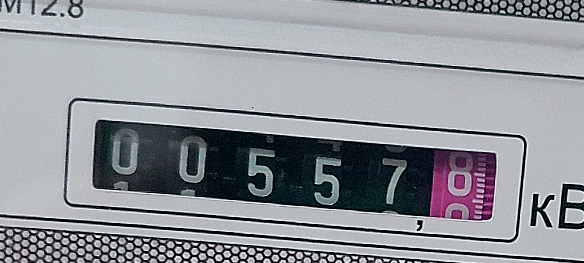0: (105, 121, 143, 179), (173, 130, 209, 184)
5: (306, 148, 347, 208), (241, 141, 278, 200)
7: (372, 151, 408, 208)
8: (444, 148, 475, 199)
screen: (56, 88, 532, 247)
